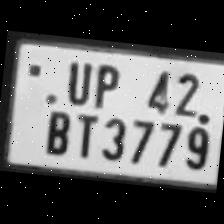2: (168, 67, 203, 116)
3: (94, 111, 129, 163)
4: (138, 63, 175, 114)
7: (123, 113, 155, 168), (150, 115, 182, 169)
9: (178, 118, 212, 172)
B: (38, 103, 74, 157)
P: (86, 58, 124, 110)
T: (68, 106, 100, 160)
U: (58, 55, 94, 106)
